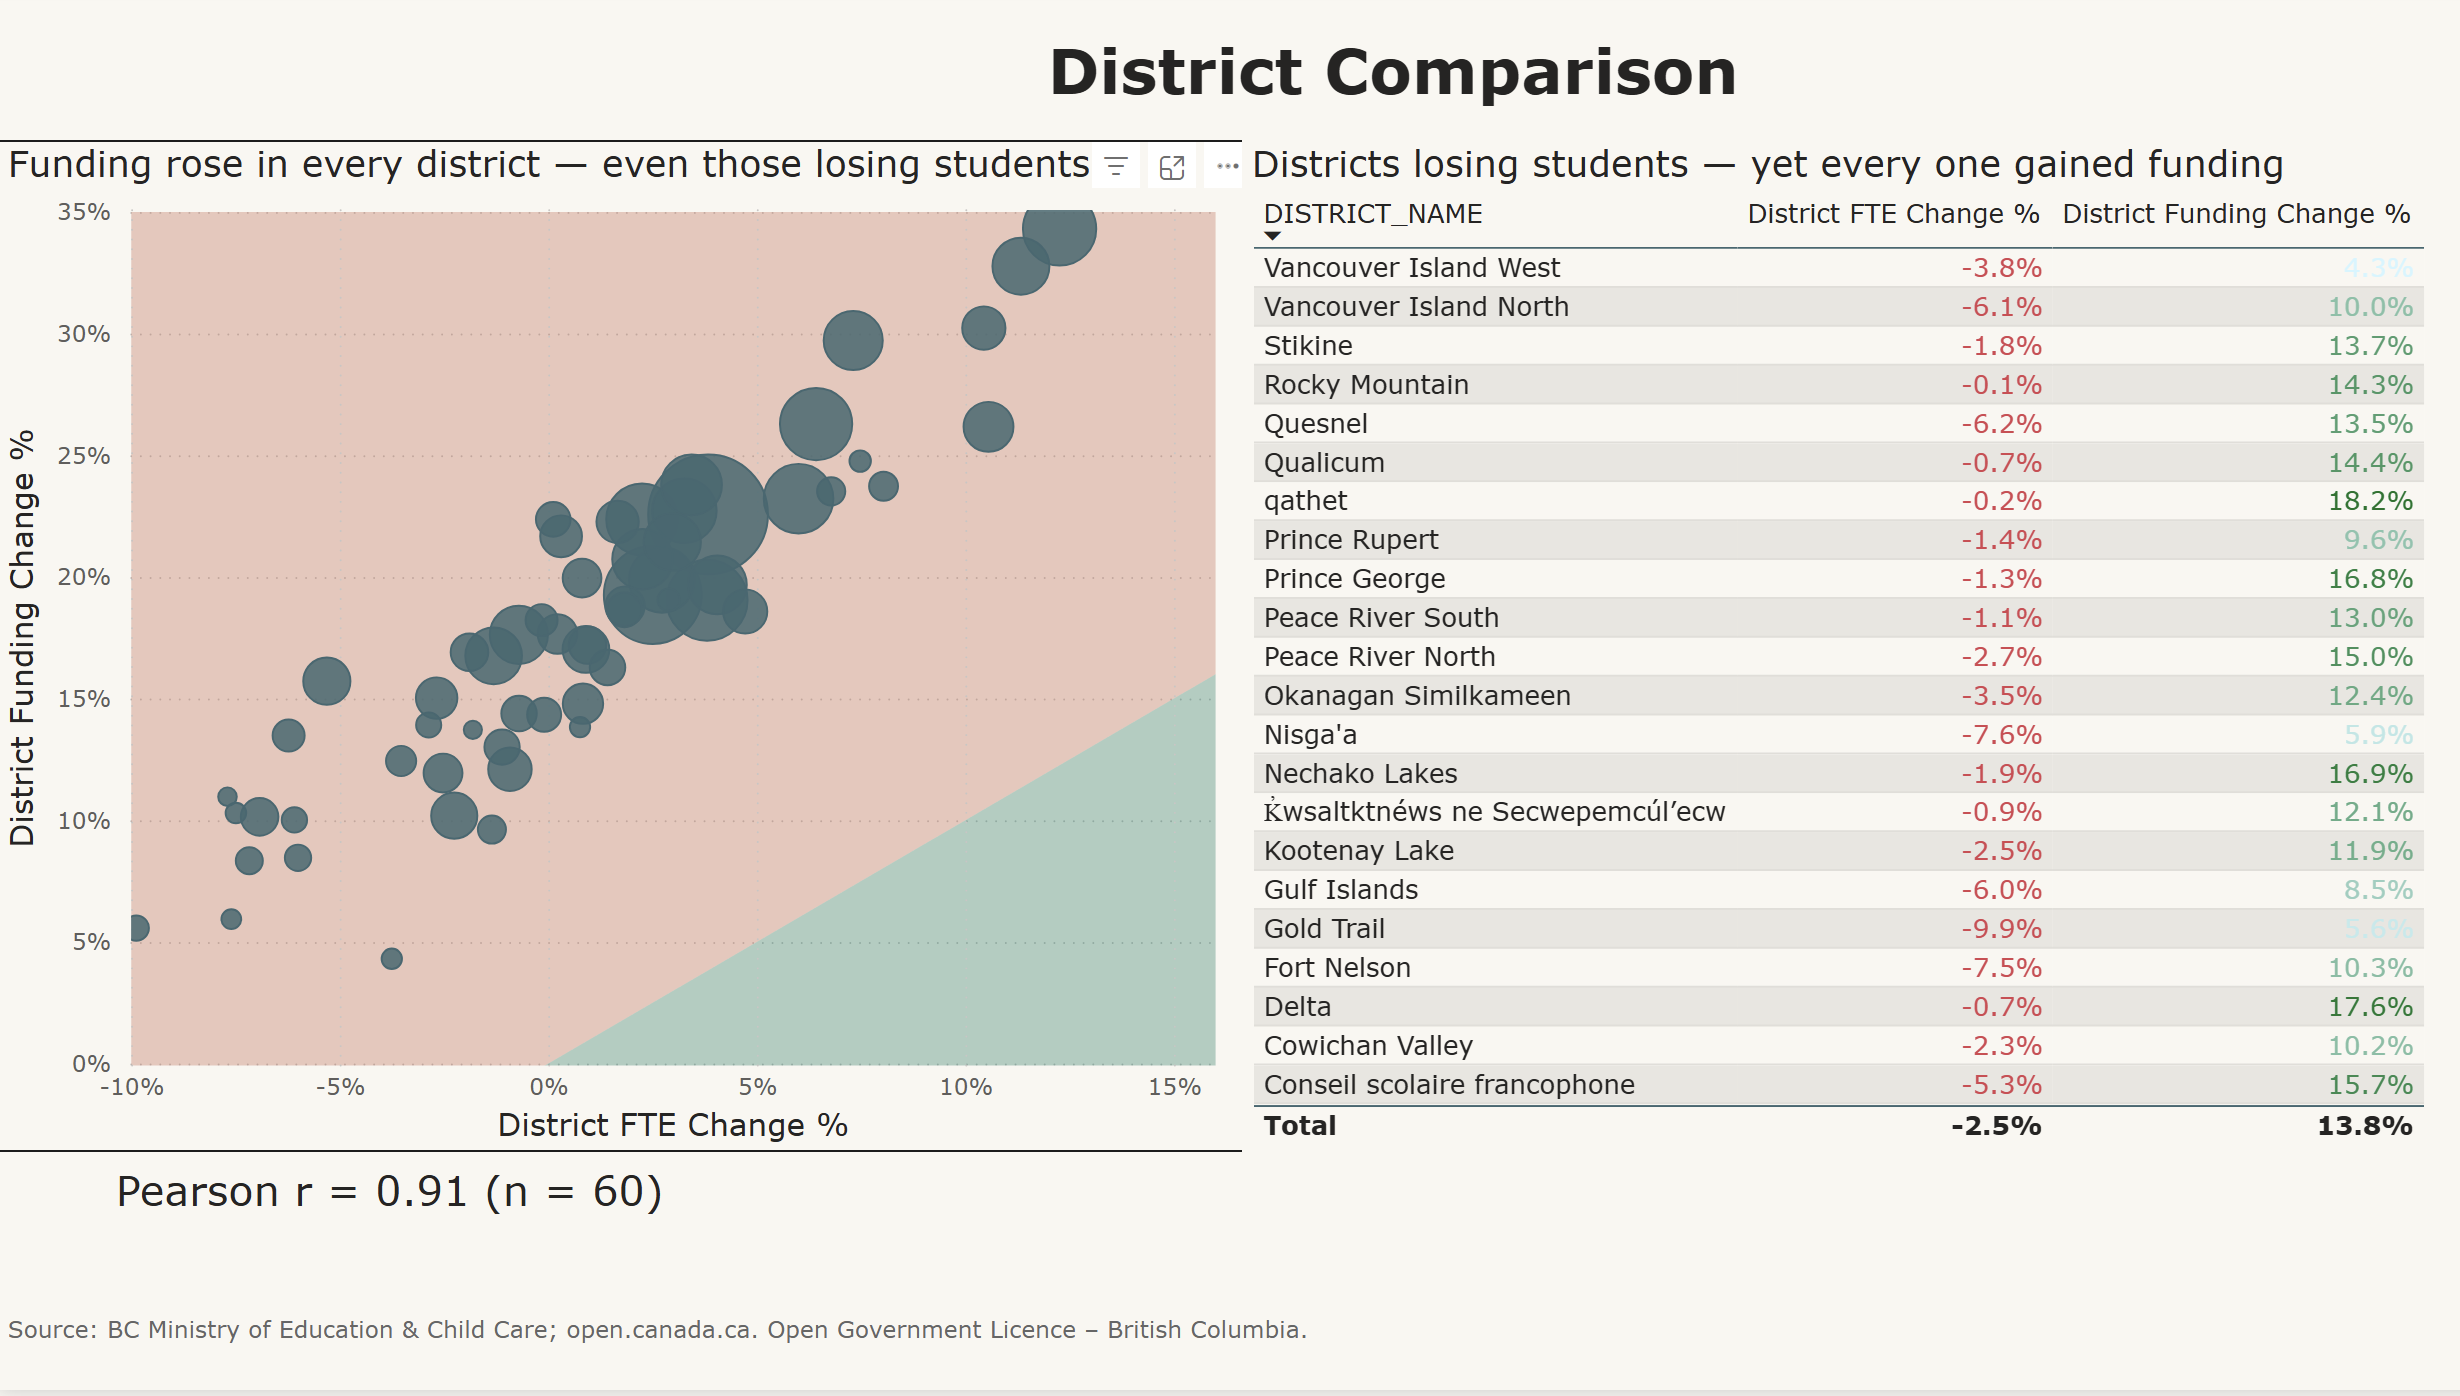

Layout of this report page (visuals, bound fields, positions):
{"tool":"powerbi","page":{"name":"District Comparison","canvas":[1280,720],"ordinal":1},"visuals":[{"type":"scatterChart","title":"Funding rose in every district — even those losing students","fields":{"X":["funding_clean.District FTE Change %"],"Y":["funding_clean.District Funding Change %"],"Category":["districts.DISTRICT_NAME"],"Size":["funding_clean.Total Funding"]},"box":[0,77.3,646.4,520.7],"z":0},{"type":"textbox","box":[55.9,598.4,305.7,52.3],"z":1000},{"type":"tableEx","title":"Districts losing students — yet every one gained funding","fields":{"Values":["districts.DISTRICT_NAME","funding_clean.District FTE Change %","funding_clean.District Funding Change %"]},"box":[639.9,77.3,641.8,521.6],"z":2000},{"type":"textbox","box":[0,674.5,685.2,45.2],"z":2001},{"type":"textbox","box":[534.6,16.8,375.4,60.5],"z":2002}]}

Visuals, with their boxes in screenshot pixels (x1, y1, x2, y2), scaled from the page's 1280x720 canvas onto the 2460x1396 screenshot:
"Funding rose in every district — even those losing students" scatterChart: x1=0 y1=150 x2=1242 y2=1159
textbox: x1=107 y1=1160 x2=695 y2=1262
"Districts losing students — yet every one gained funding" tableEx: x1=1230 y1=150 x2=2459 y2=1161
textbox: x1=0 y1=1308 x2=1317 y2=1395
textbox: x1=1027 y1=33 x2=1749 y2=150
